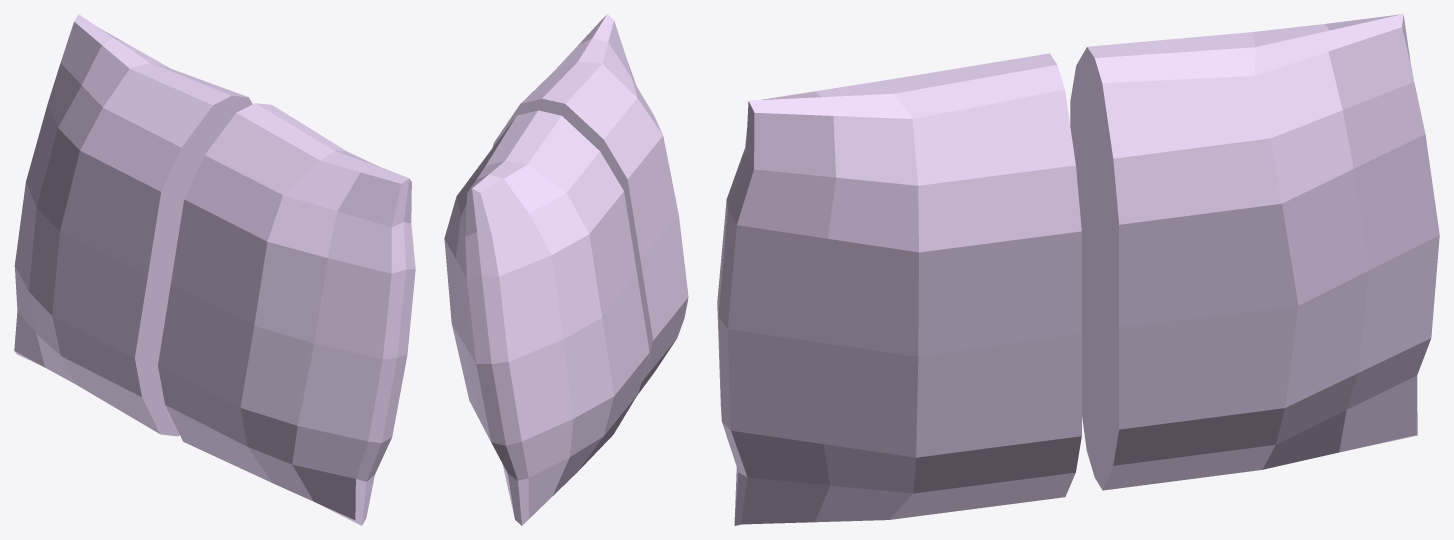
Rendered from Pillow_Left_Couch_Cut.fbx.
3 renders of one model, left to right at view 1: azimuth 30°, elevation 25°; view 2: azimuth 150°, elevation 25°; view 3: azimuth 270°, elevation 25°, orthographic. The views are drawn at different scales.
Parts seen in each view (by area): view 1: Cube.019, Cube.000; view 2: Cube.000, Cube.019; view 3: Cube.019, Cube.000.
Boxes of the visible parts, box(x1,y1,x2,y2) form: Cube.019: box(158, 103, 415, 525); Cube.000: box(14, 14, 252, 436); Cube.000: box(444, 110, 649, 525); Cube.019: box(492, 14, 688, 395); Cube.019: box(717, 53, 1081, 525); Cube.000: box(1070, 14, 1439, 490).
Bounding box in the file's own units: 1228 × 1903 × 2582.
